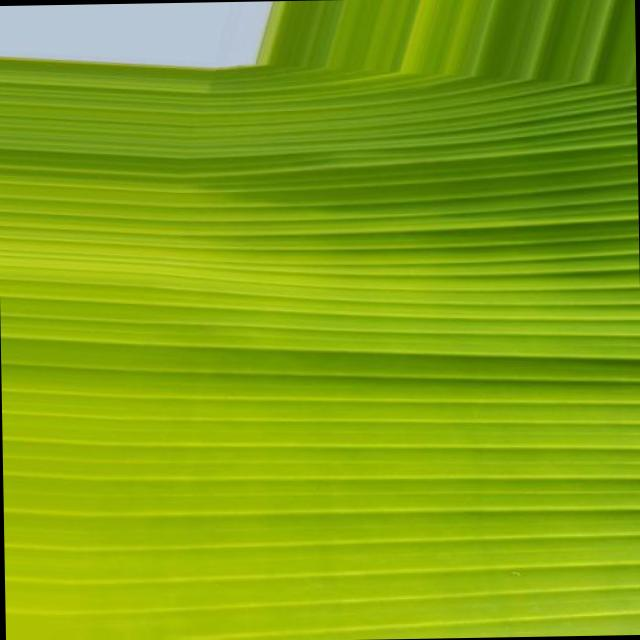Banana_Healthy: (140, 162, 537, 583)
